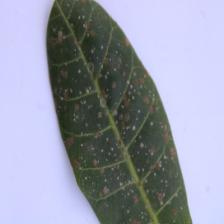red rust: (44, 0, 194, 223)
